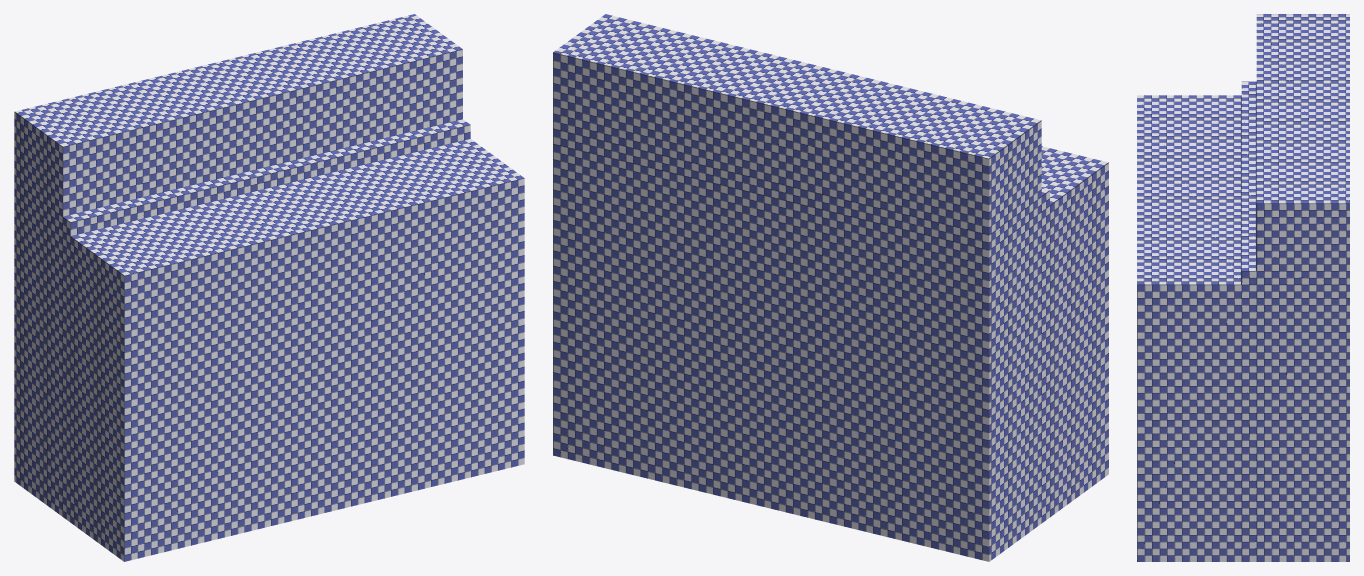
The model's file is AudioDemo.obj.
The picture shows the model from 3 angles, left to right: view 1: azimuth 30°, elevation 25°; view 2: azimuth 150°, elevation 25°; view 3: azimuth 270°, elevation 25°; orthographic projection. The views are drawn at different scales.
Parts seen in each view (by area): view 1: AudioDemo; view 2: AudioDemo; view 3: AudioDemo.
Part boxes in pixels (bbox=[...]): AudioDemo: bbox=[14, 14, 524, 561]; AudioDemo: bbox=[553, 14, 1108, 561]; AudioDemo: bbox=[1137, 14, 1349, 561].
Size of the model in its own units: 30 by 26.5 by 14.25.
